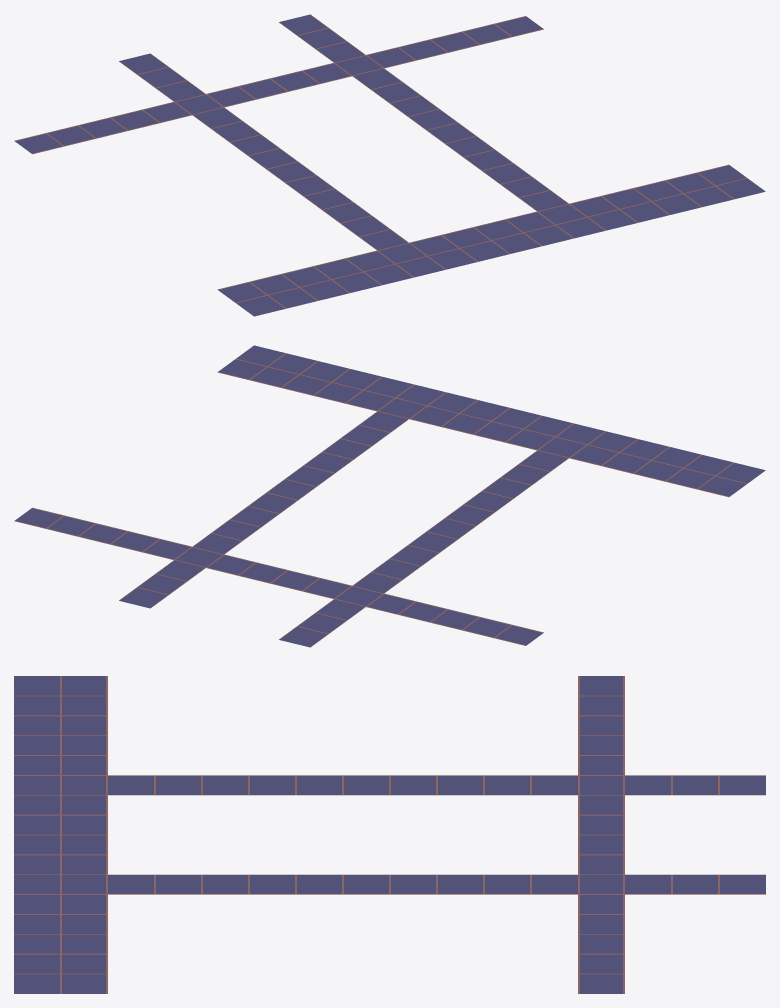
Rendered from road_new.FBX.
3 renders of one model, top to bottom at view 1: azimuth 30°, elevation 25°; view 2: azimuth 150°, elevation 25°; view 3: azimuth 270°, elevation 25°, orthographic. The views are drawn at different scales.
Visible parts, largest first — view 1: road01; view 2: road01; view 3: road01.
Part boxes in pixels (x1,y1,x2,y2): road01: (14, 14, 765, 316); road01: (14, 345, 765, 647); road01: (14, 676, 765, 993).
Size of the model in its own units: 3690 by 2.26e-13 by 3690.
